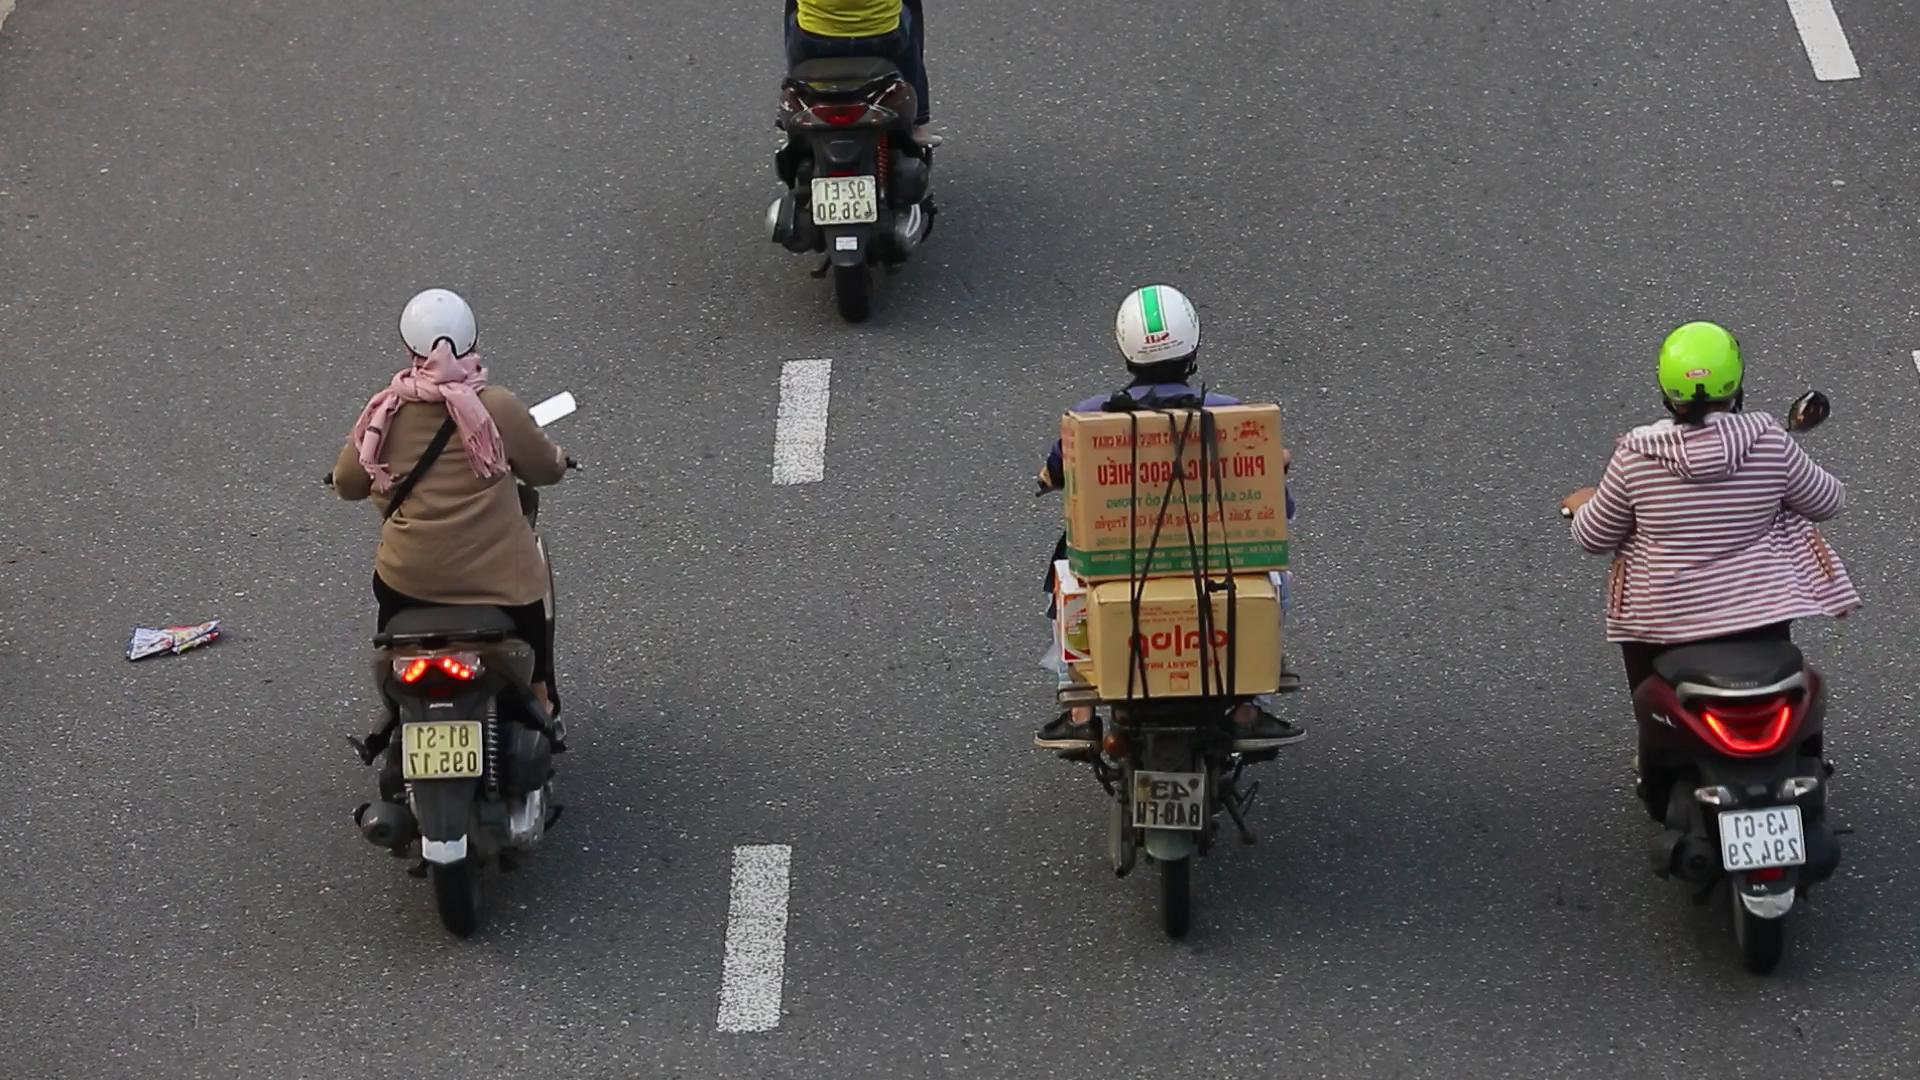motobike: (1559, 320, 1866, 984), (1033, 280, 1315, 948), (316, 285, 589, 939)
